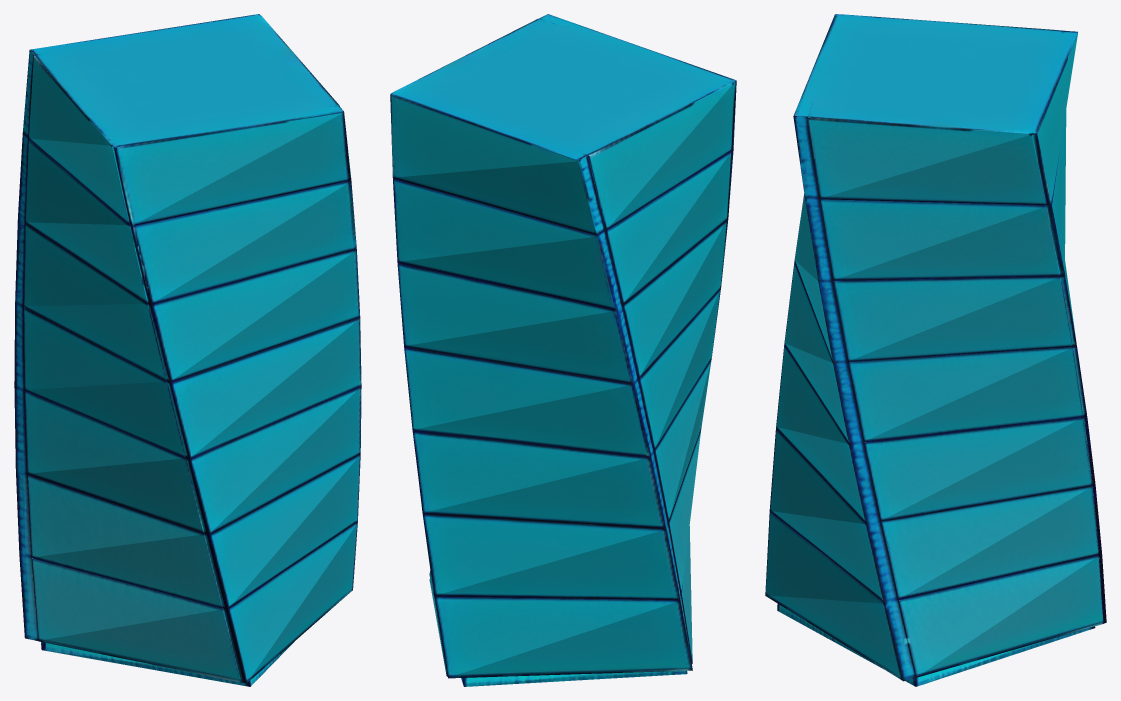
Rendered from edited_mesh.glb.
3 views of the same model, side by side, from view 1: azimuth 30°, elevation 25°; view 2: azimuth 150°, elevation 25°; view 3: azimuth 270°, elevation 25° (orthographic).
Parts seen in each view (by area): view 1: normalized_model.obj; view 2: normalized_model.obj; view 3: normalized_model.obj.
Boxes of the visible parts, x1,y1,x2,y2 form: normalized_model.obj: (14,14,361,686); normalized_model.obj: (390,14,736,686); normalized_model.obj: (765,14,1106,686).
Size of the model in its own units: 0.8834 by 1.56 by 0.8848.
1 material, 1 textured.
